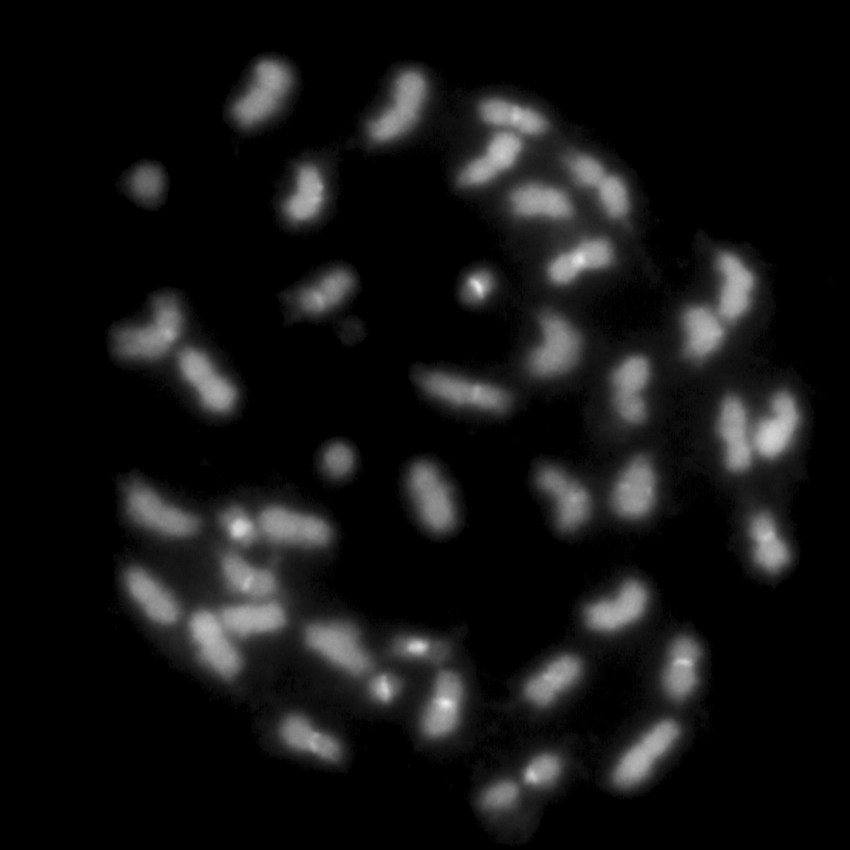Cromossomo: (608, 724, 692, 797), (517, 644, 594, 716), (119, 478, 198, 547), (113, 301, 188, 366), (109, 568, 181, 635), (452, 128, 525, 193), (601, 353, 659, 433), (175, 345, 240, 415), (230, 56, 290, 131), (365, 68, 423, 144), (575, 151, 642, 215), (413, 669, 472, 741), (542, 470, 596, 548), (181, 618, 242, 683), (306, 619, 373, 677), (431, 377, 519, 420), (739, 511, 794, 577), (677, 303, 727, 374), (221, 548, 292, 597), (413, 466, 460, 539), (543, 239, 615, 286), (280, 166, 330, 232), (208, 601, 294, 637), (265, 507, 340, 548), (288, 715, 347, 765), (762, 399, 809, 461), (588, 587, 647, 636), (537, 318, 581, 383), (298, 268, 352, 320), (510, 183, 572, 228), (667, 636, 706, 706), (623, 464, 665, 526), (473, 101, 556, 132), (721, 408, 752, 480), (723, 249, 752, 318)
